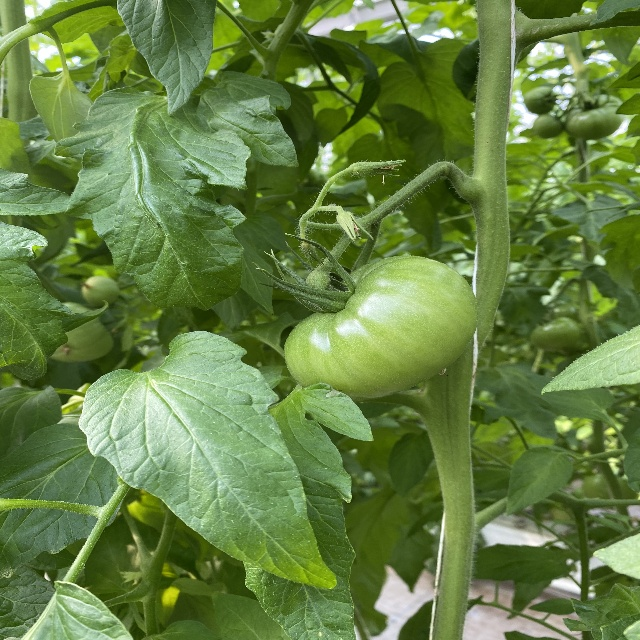b_green: (285, 256, 479, 401)
